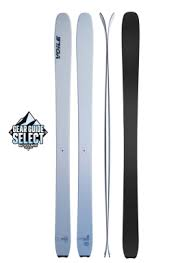skis: (52, 11, 141, 258)
